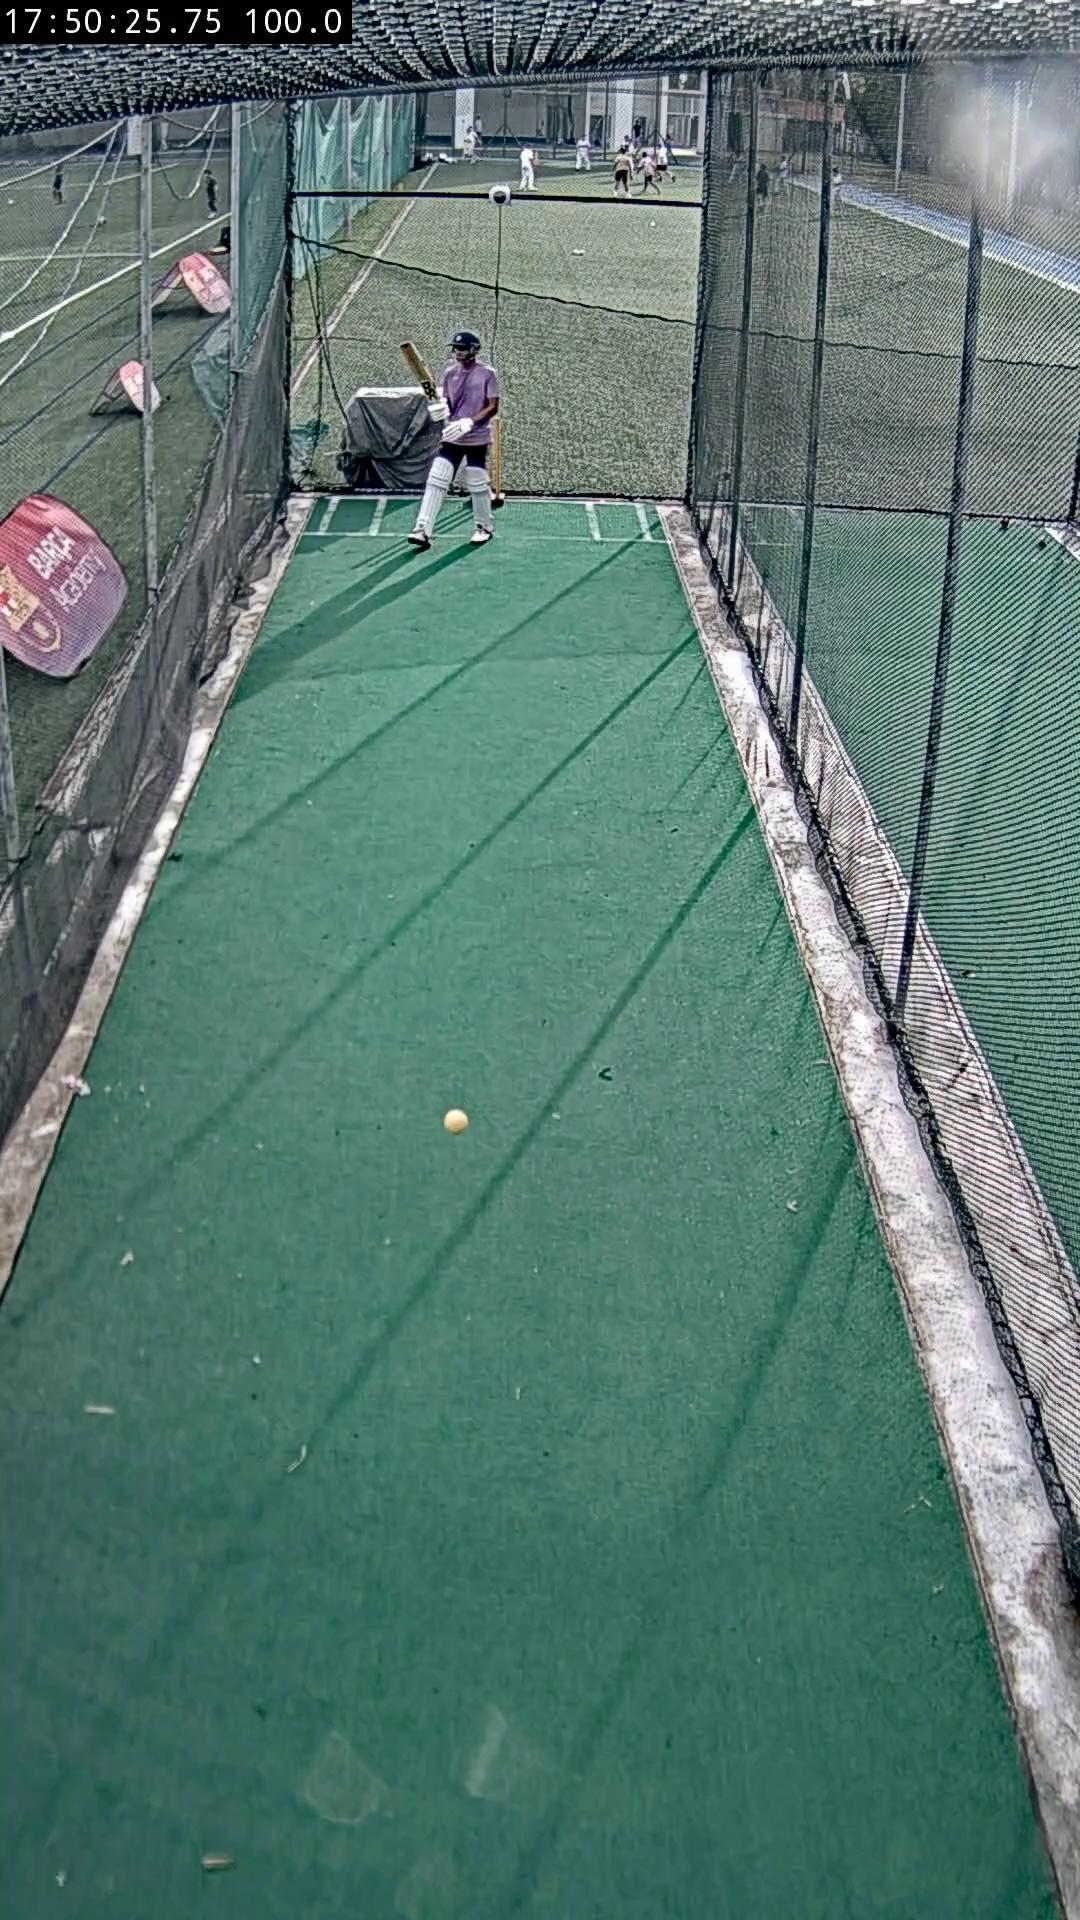ball: (443, 1110, 468, 1133)
bat: (401, 342, 439, 401)
gloves: (443, 417, 476, 440), (427, 397, 450, 423)
helmet: (450, 330, 480, 348)
pads: (417, 458, 454, 534), (465, 465, 492, 530)
stumps: (492, 419, 506, 504)
